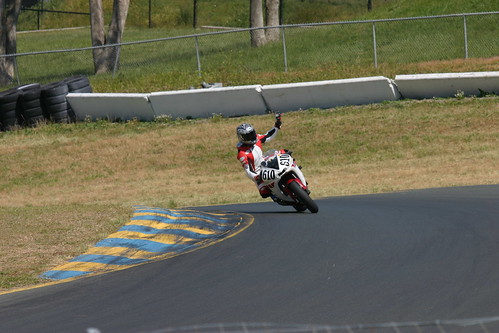helmet: (235, 119, 259, 145)
